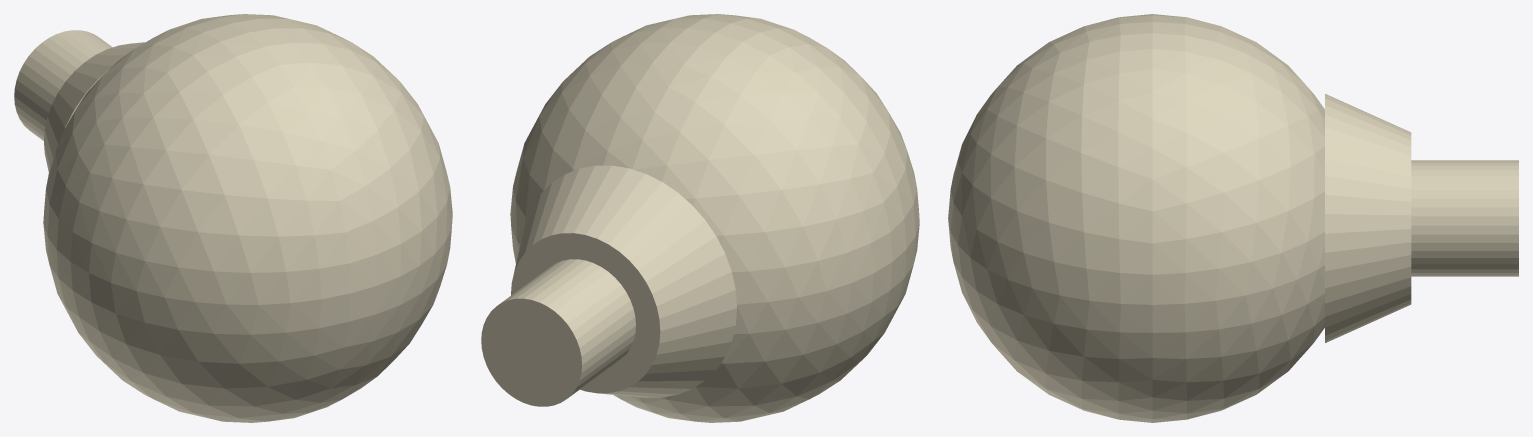
File: bulb_pendant.glb
The picture shows the model from 3 angles, left to right: view 1: azimuth 30°, elevation 25°; view 2: azimuth 150°, elevation 25°; view 3: azimuth 270°, elevation 25°; orthographic projection.
Visible parts, largest first — view 1: bulb_pendant; view 2: bulb_pendant; view 3: bulb_pendant.
Boxes of the visible parts, bbox=[...] form: bulb_pendant: bbox=[14, 14, 452, 422]; bulb_pendant: bbox=[481, 14, 919, 422]; bulb_pendant: bbox=[948, 14, 1518, 422].
Size of the model in its own units: 95 by 95 by 132.
